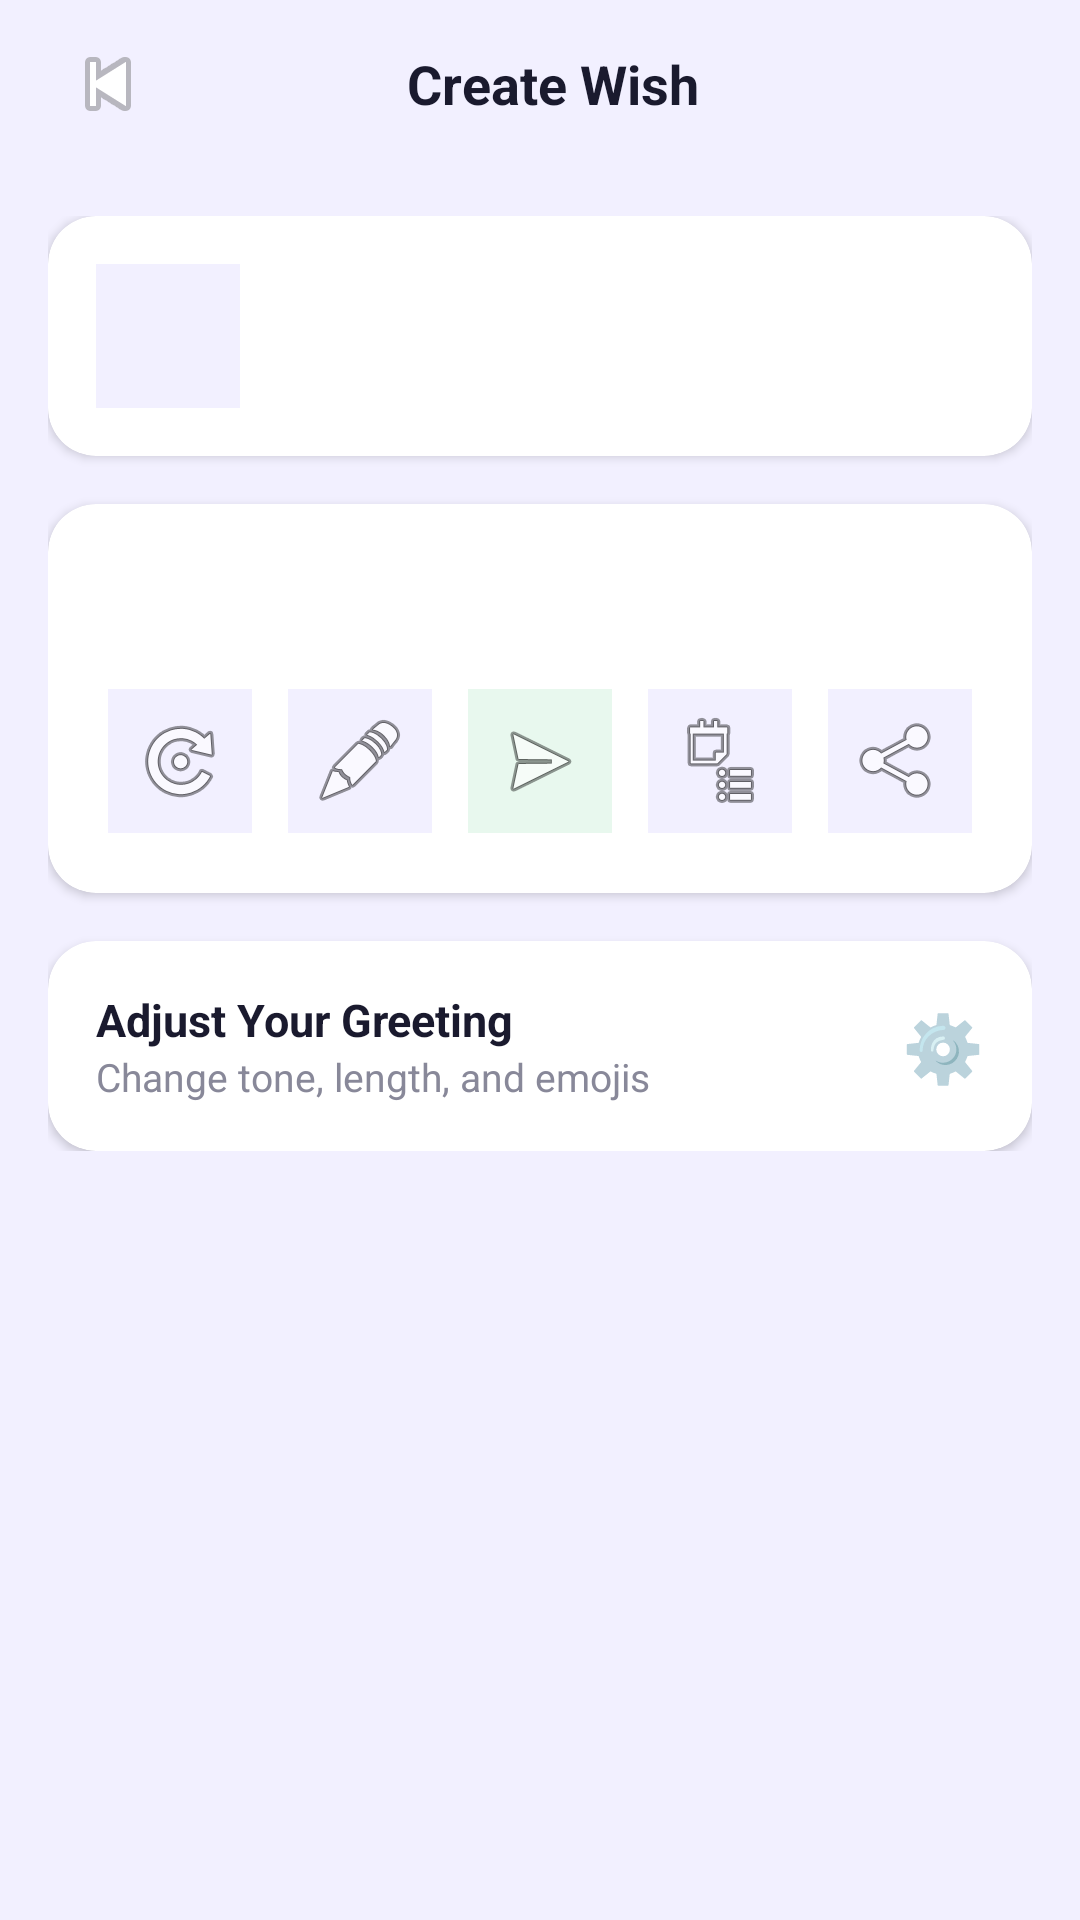

Named icons in this screenshot (1080 × 1920) and their centers, (x=x, y=y):
agenda: (x=720, y=761)
edit: (x=360, y=761)
previous: (x=108, y=84)
rotate: (x=180, y=761)
send: (x=540, y=761)
share: (x=900, y=761)
